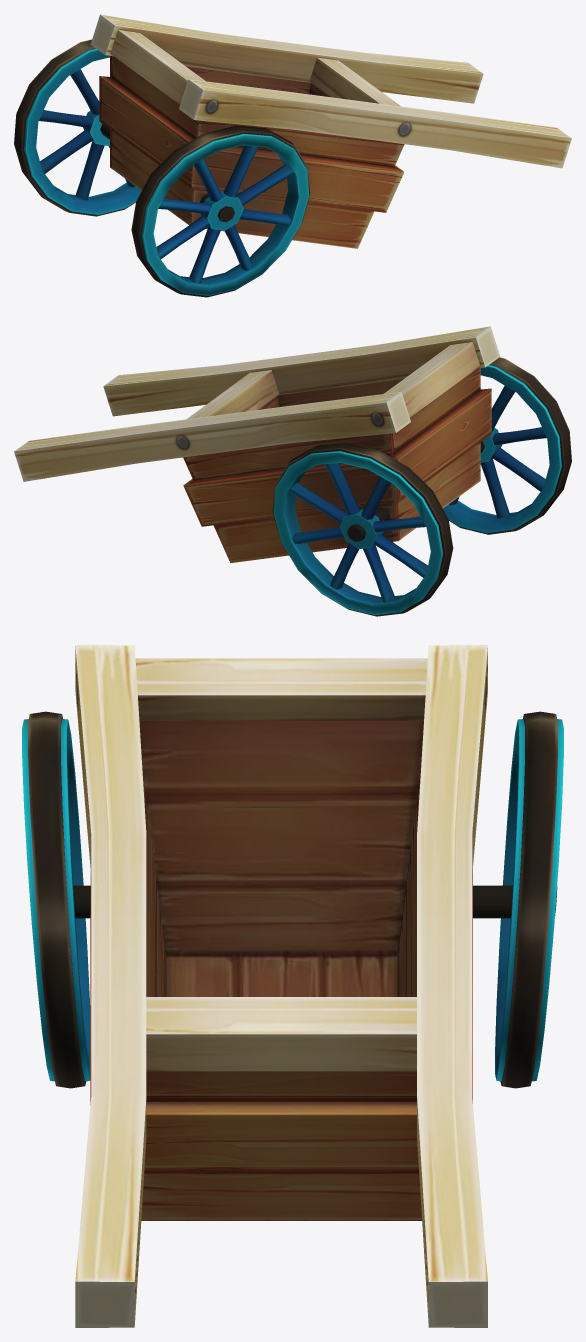
The model's file is SE_Cart_01_SM.FBX.
3 renders of one model, top to bottom at view 1: azimuth 30°, elevation 25°; view 2: azimuth 150°, elevation 25°; view 3: azimuth 270°, elevation 25°, orthographic. The views are drawn at different scales.
Parts seen in each view (by area): view 1: SE_Cart_01_SM_LOD0; view 2: SE_Cart_01_SM_LOD0; view 3: SE_Cart_01_SM_LOD0.
Boxes of the visible parts, x1,y1,x2,y2 form: SE_Cart_01_SM_LOD0: (14,14,571,297); SE_Cart_01_SM_LOD0: (14,326,571,616); SE_Cart_01_SM_LOD0: (22,645,563,1327).
Size of what is drawn, in the model's own units: 829 by 440 by 372.
